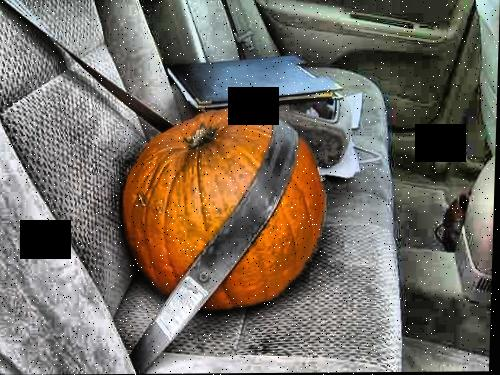seatbelt: (13, 0, 304, 269)
